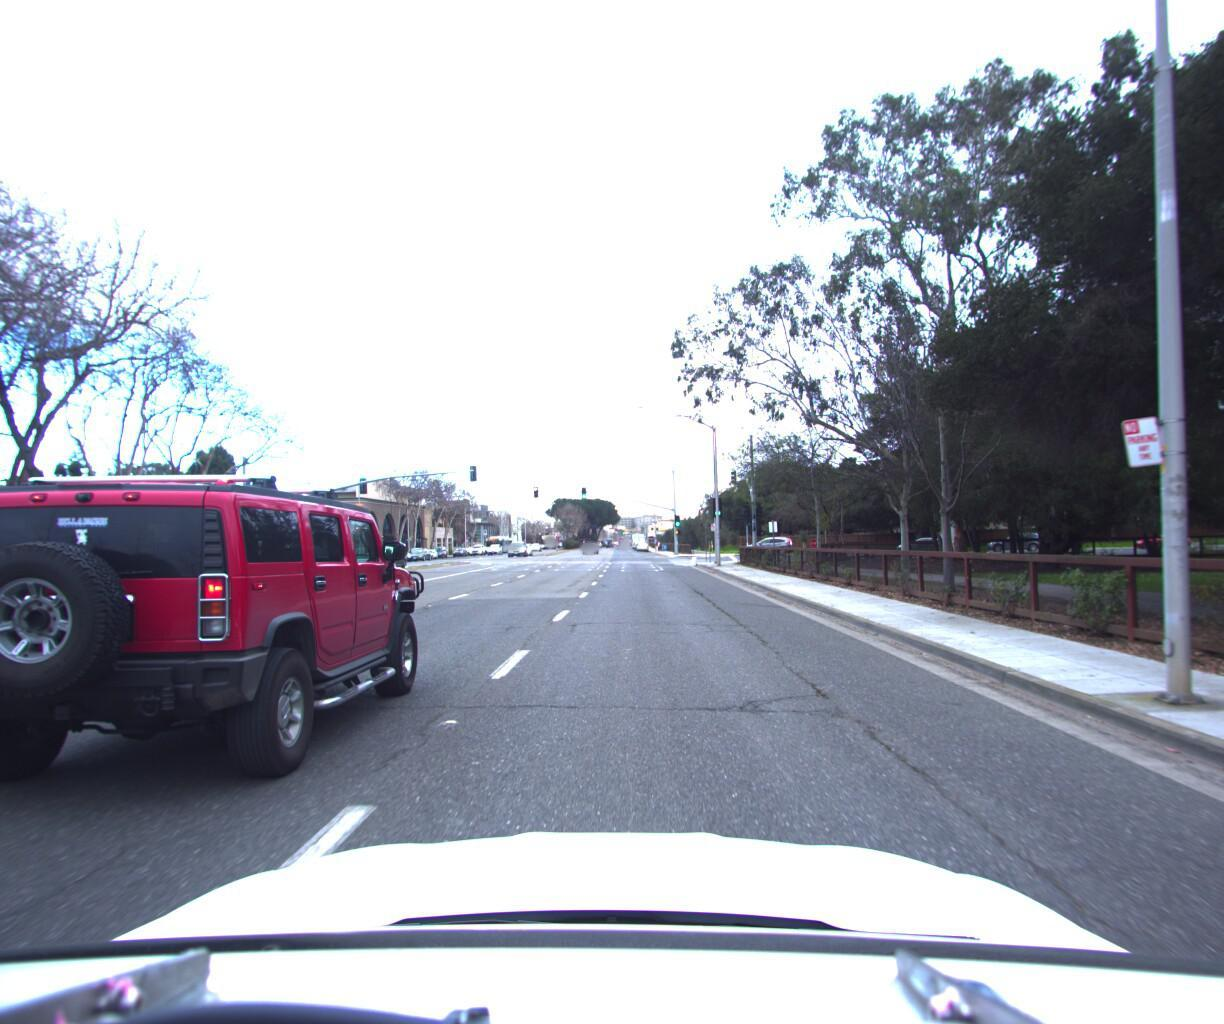car: (0, 462, 437, 838), (0, 551, 42, 621), (738, 528, 794, 548)
